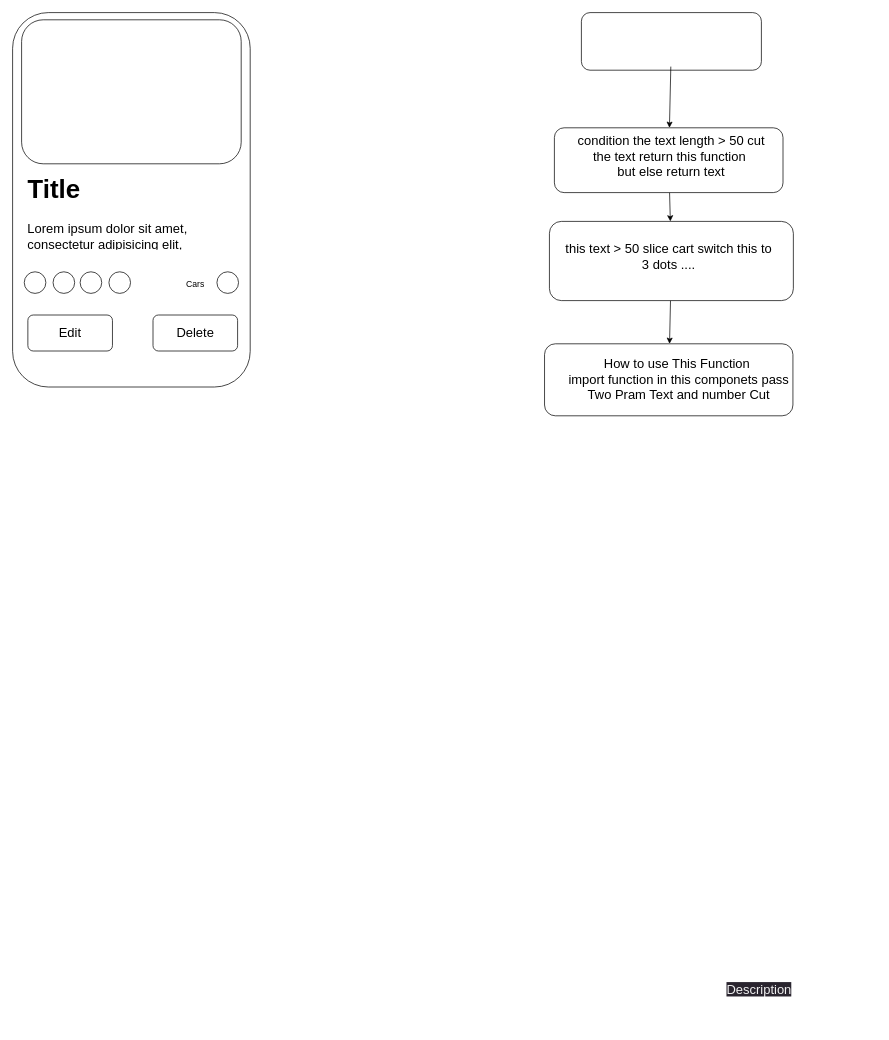
Some shapes in this 889 by 1040 pixel diagram are drawn without their labels. The shapes that lost their labels are listed below. From the top down, each one's centre as x and y in pixels, then its label:
At (x=671, y=41): "Slice text for index to 50 2 Pram pram text and lenght".
At (x=131, y=91): "img".
